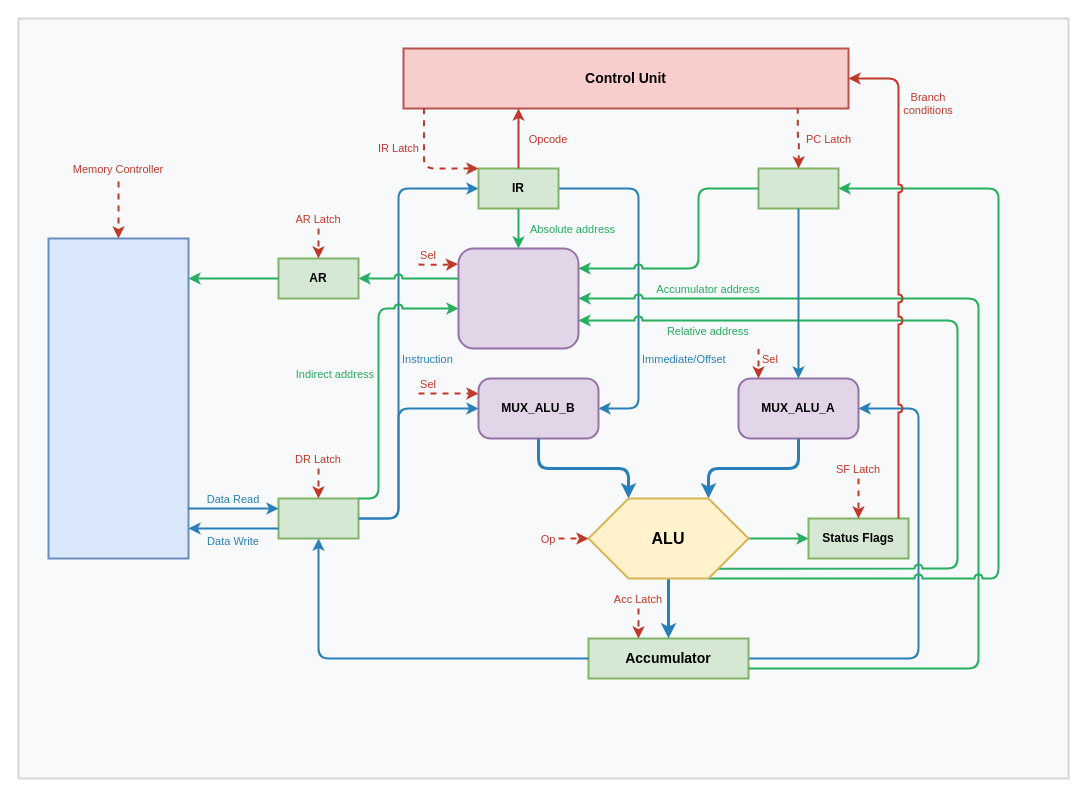
This 1086x796 diagram has some shape labels left out. The shapes that lost their labels are listed below. From the top down, each one's box as (x1, y1, x2, y2) in pixels, then its label:
(757, 167, 839, 209): PC
(457, 247, 579, 349): MUX_AR
(47, 237, 189, 559): Memory
(277, 497, 359, 539): DR
